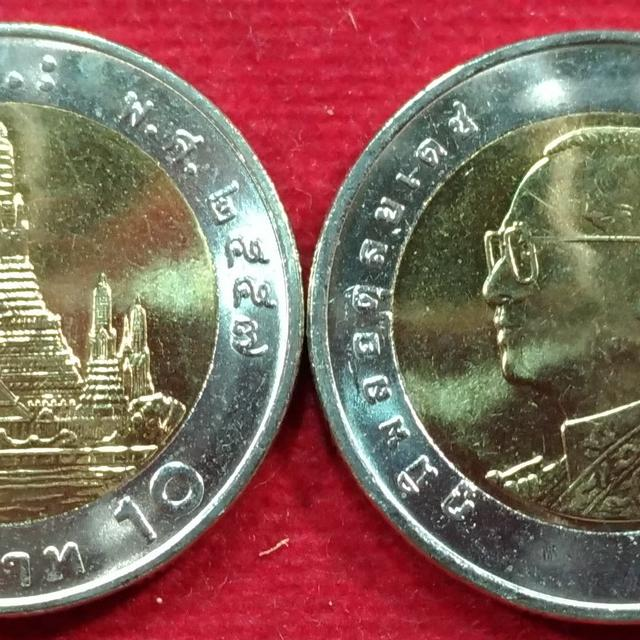10-baht: (311, 0, 640, 640), (0, 6, 308, 640)
